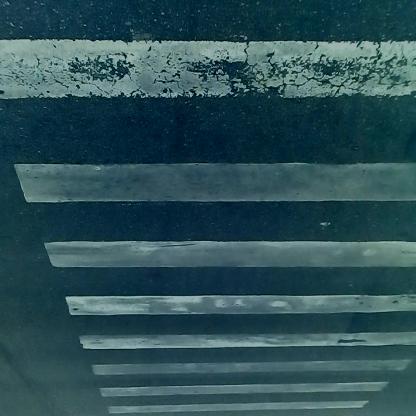crosswalk: (2, 19, 407, 413)
